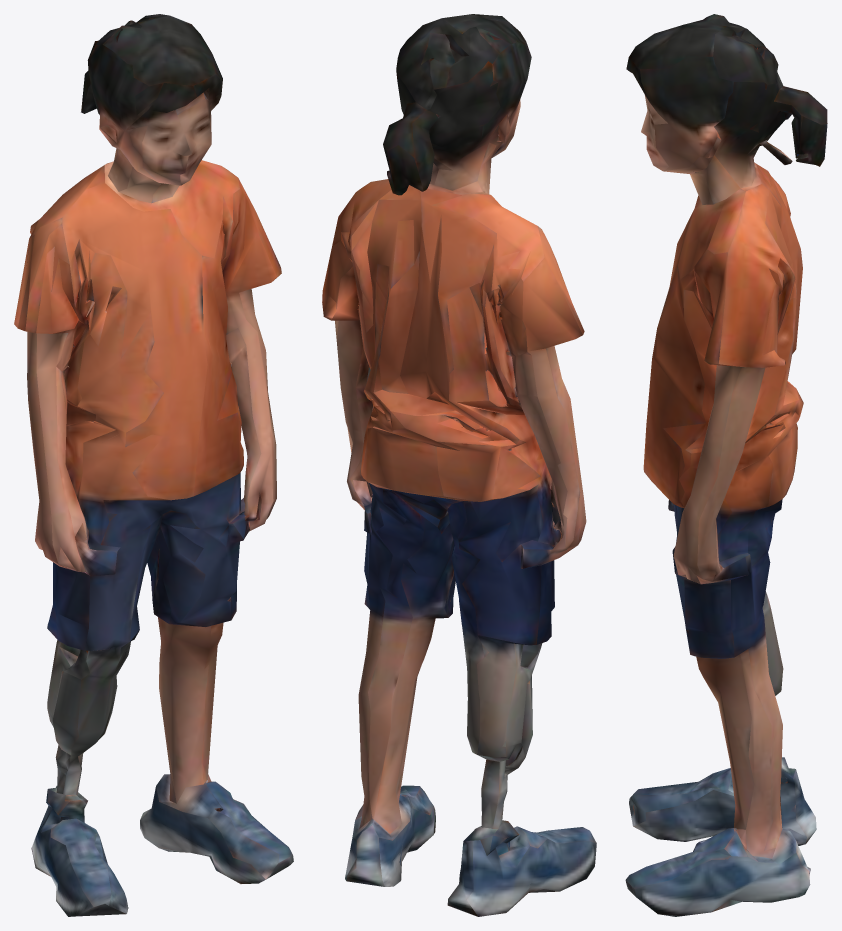
The model's file is person_18.glb.
3 renders of one model, left to right at view 1: azimuth 30°, elevation 25°; view 2: azimuth 150°, elevation 25°; view 3: azimuth 270°, elevation 25°, orthographic.
Parts seen in each view (by area): view 1: Human_Rig; view 2: Human_Rig; view 3: Human_Rig.
Part boxes in pixels (x1=…): Human_Rig: x1=14, y1=14, x2=293, y2=916; Human_Rig: x1=322, y1=14, x2=596, y2=916; Human_Rig: x1=625, y1=14, x2=827, y2=916.
Bounding box in the file's own units: 0.4049 × 1.28 × 0.2769.
1 material, 1 textured.
